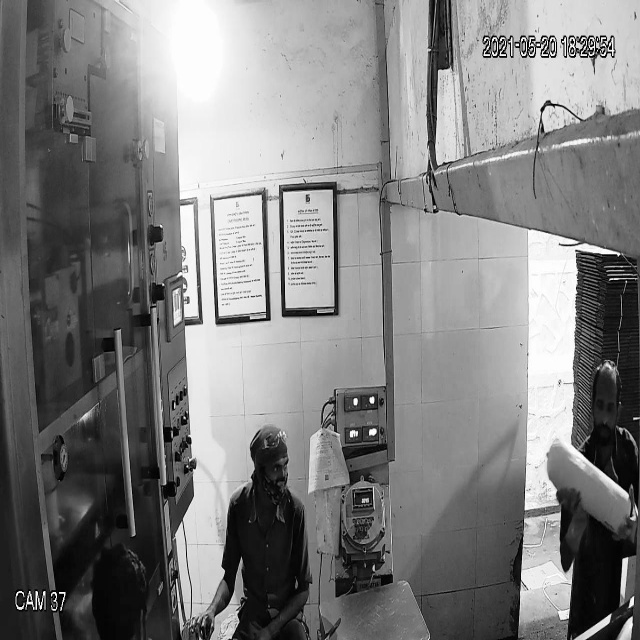Sin_gafas: (260, 456, 293, 484)
